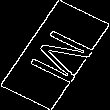M_SE: (15, 23, 95, 87)
